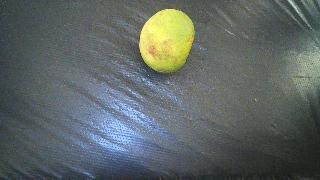DESECHO: (139, 9, 194, 74)
